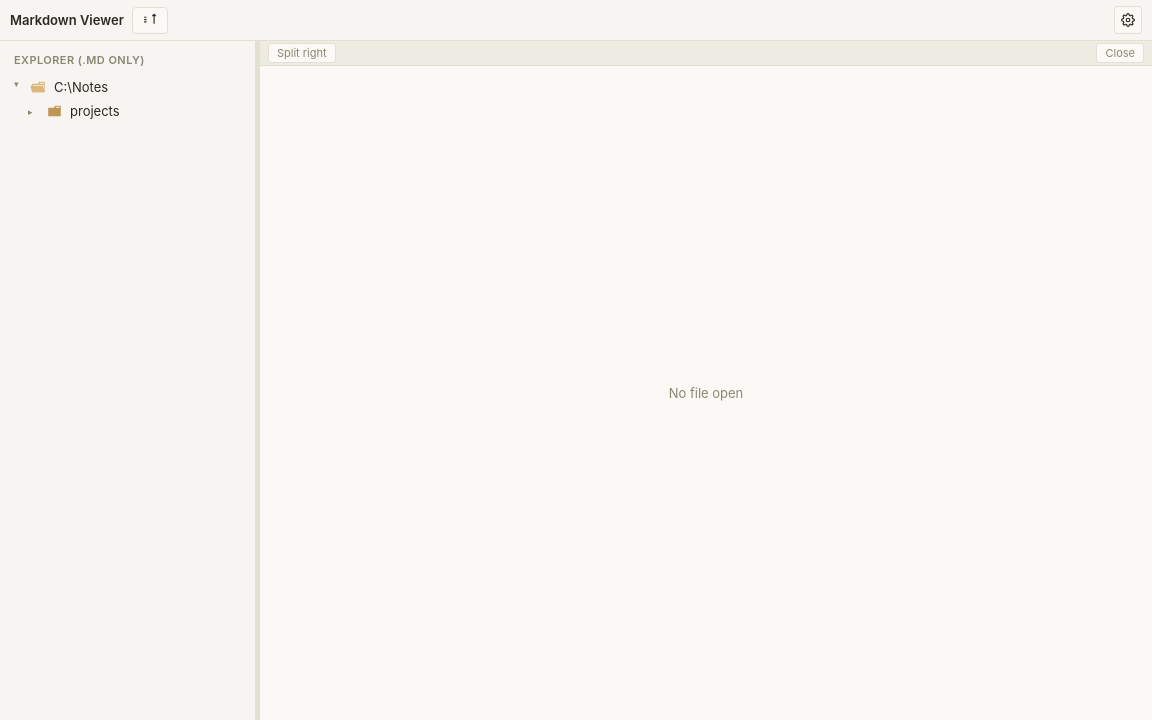
Test: Sidebar tree persistence › keeps normalized persistence separate from runtime API paths
This screenshot has width=1152, height=720.
Check: the text "projects" is shown, box [70,103,120,119]
Click the text "projects" at (74, 111), box [28,103,120,119]
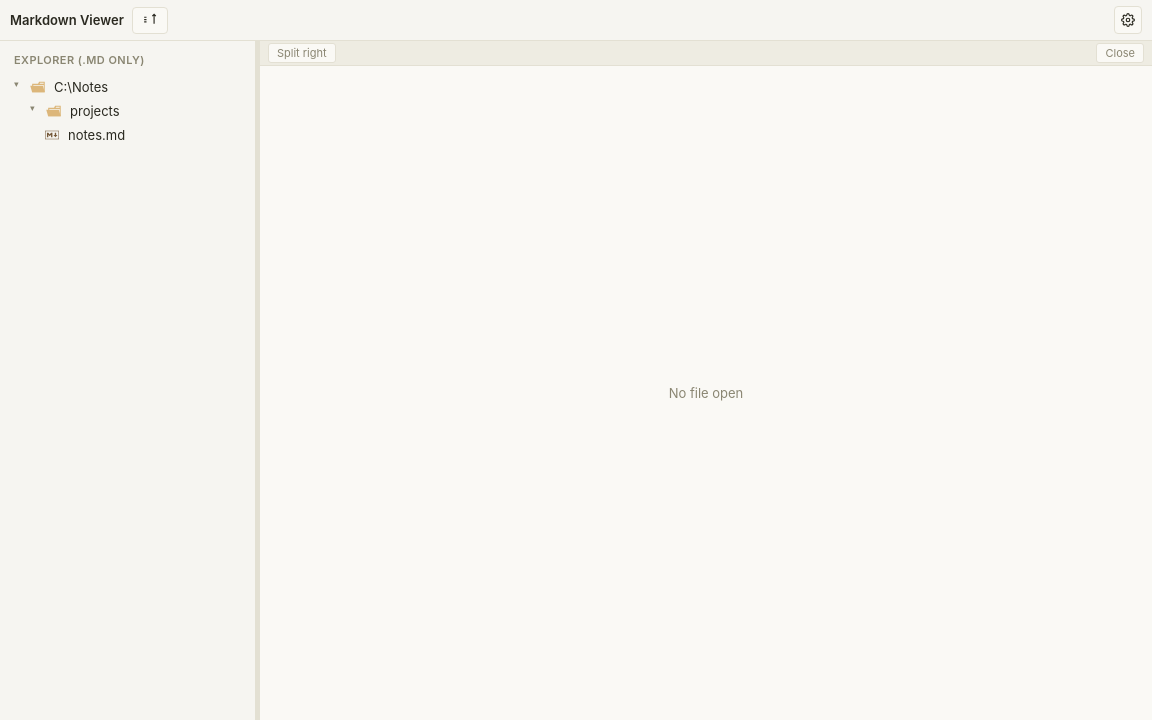
Check: the text "notes.md" is shown, box [68,127,125,143]
